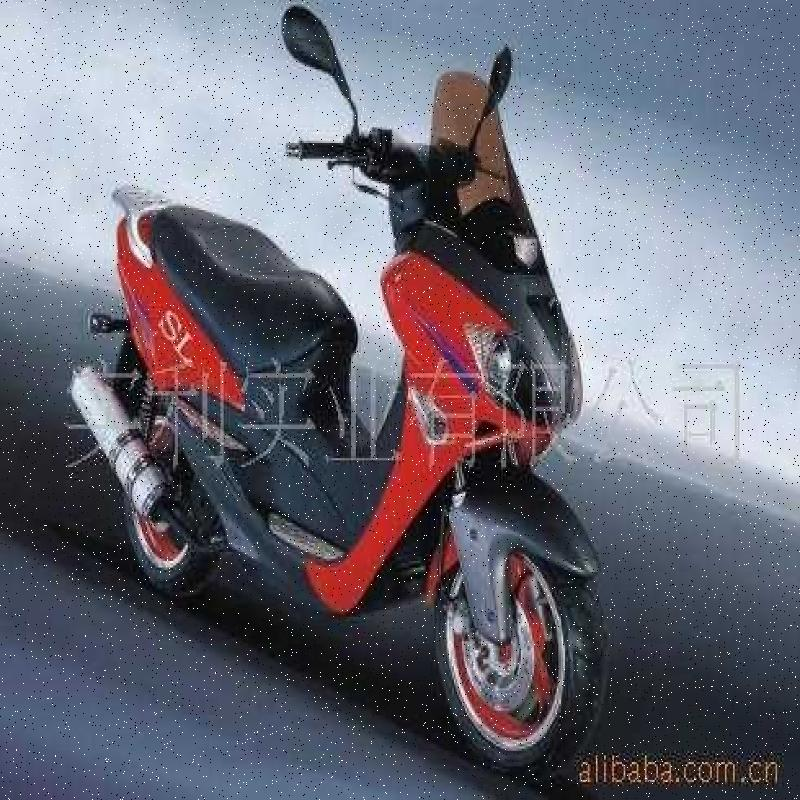bike: (93, 14, 599, 749)
